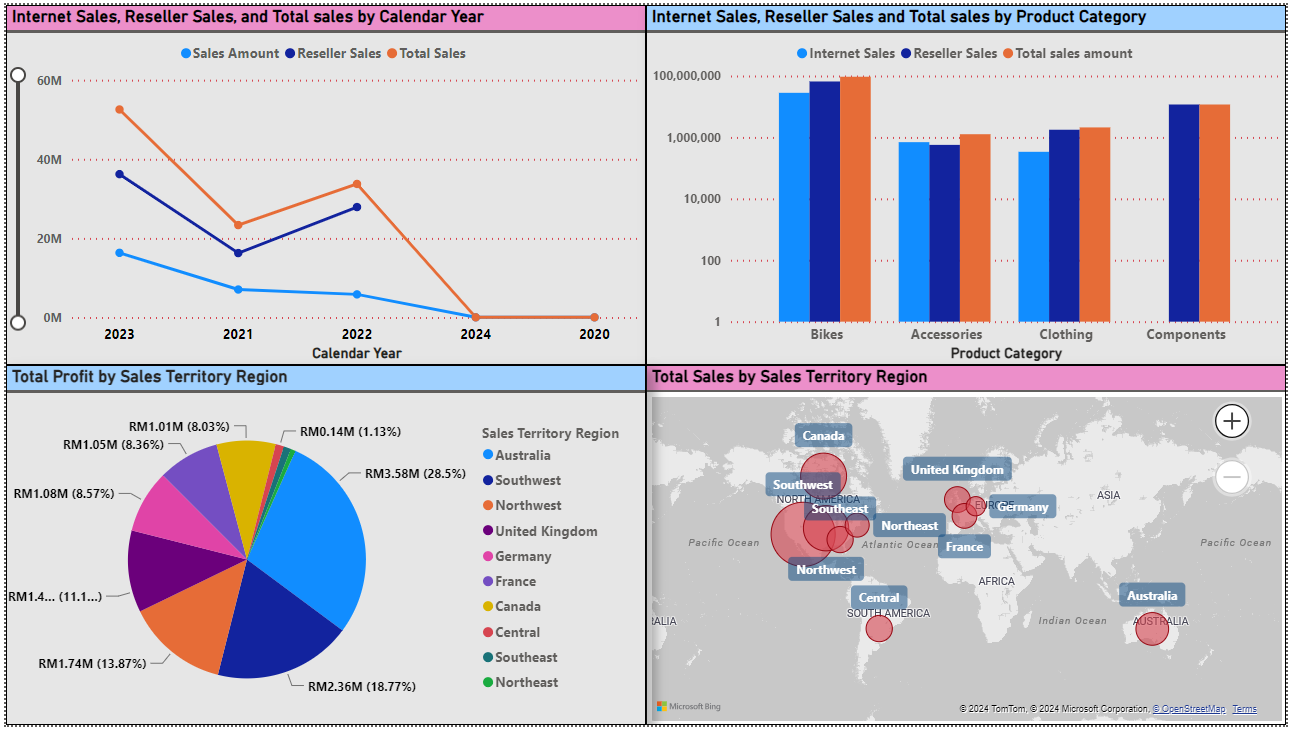

What the dashboard file says about the page in this screenshot:
{"tool":"powerbi","page":{"name":"Sales Performance Overview","canvas":[1280,720],"ordinal":0},"visuals":[{"type":"lineChart","title":"Internet Sales, Reseller Sales, and Total sales by Calendar Year","fields":{"Category":["Order Date.Calendar Year"],"Y":["Fact Internet Sales.Sales Amount","Fact Reseller Sales.Sales Amount - Fact Reseller Sales","Measures.Total sales amount"]},"box":[0,0,640,360.1],"z":0},{"type":"clusteredColumnChart","title":"Internet Sales, Reseller Sales and Total sales by Product Category ","fields":{"Y":["Fact Internet Sales.Sales Amount","Fact Reseller Sales.Sales Amount - Fact Reseller Sales","Measures.Total sales amount"],"Category":["Dim Product 1.English Product Category Name"]},"box":[640,0,640,360.1],"z":1000},{"type":"map","title":"Total Sales by Sales Territory Region","fields":{"Size":["Measures.Total sales amount"],"Category":["Dim Sales Territory 1.Sales Territory Region"]},"box":[640,360.1,640,360.1],"z":2000},{"type":"pieChart","title":"Total Profit by Sales Territory Region","fields":{"Y":["Measures.Profit"],"Category":["Dim Sales Territory 1.Sales Territory Region"]},"box":[0,360,640,360],"z":3000}]}

Visuals, with their boxes in screenshot pixels (x1, y1, x2, y2), scaled from the page's 1280x720 canvas onto the 1290x729 screenshot:
"Internet Sales, Reseller Sales, and Total sales by Calendar Year" lineChart: <box>0,0,645,365</box>
"Internet Sales, Reseller Sales and Total sales by Product Category " clusteredColumnChart: <box>645,0,1289,365</box>
"Total Sales by Sales Territory Region" map: <box>645,365,1289,728</box>
"Total Profit by Sales Territory Region" pieChart: <box>0,364,645,728</box>
